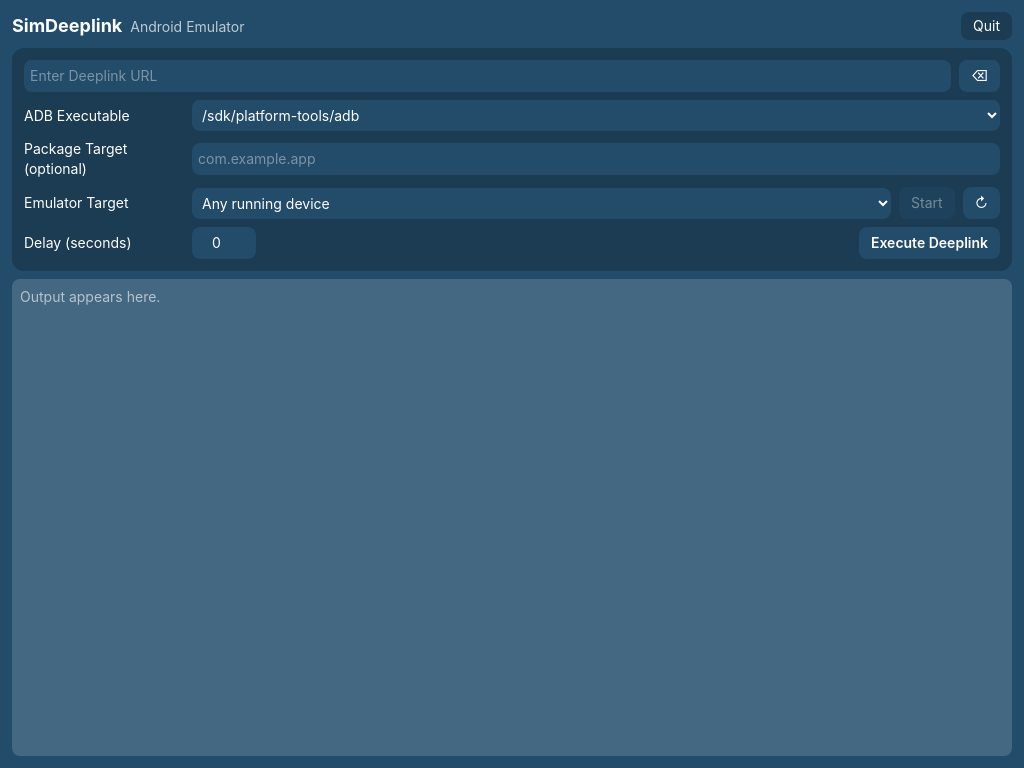
Test case: devices › starts a stopped emulator and reads the list again
Expected: the field labelled "Deeplink URL" is shown, [24, 60, 951, 92]
Expected: the button with aria-label "Start device" is disabled, [899, 187, 955, 219]
Select "Tablet" in the dropdown named "Device" at (542, 203), box [192, 188, 891, 218]
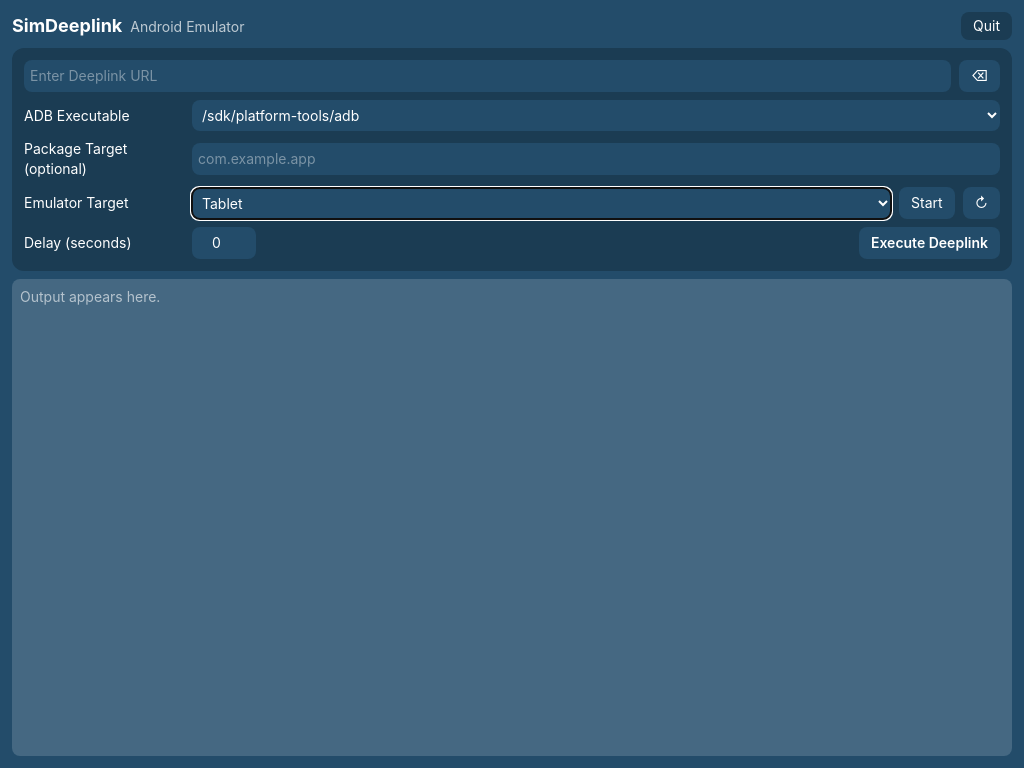
Click the button with aria-label "Start device" at (927, 203), box [899, 187, 955, 219]
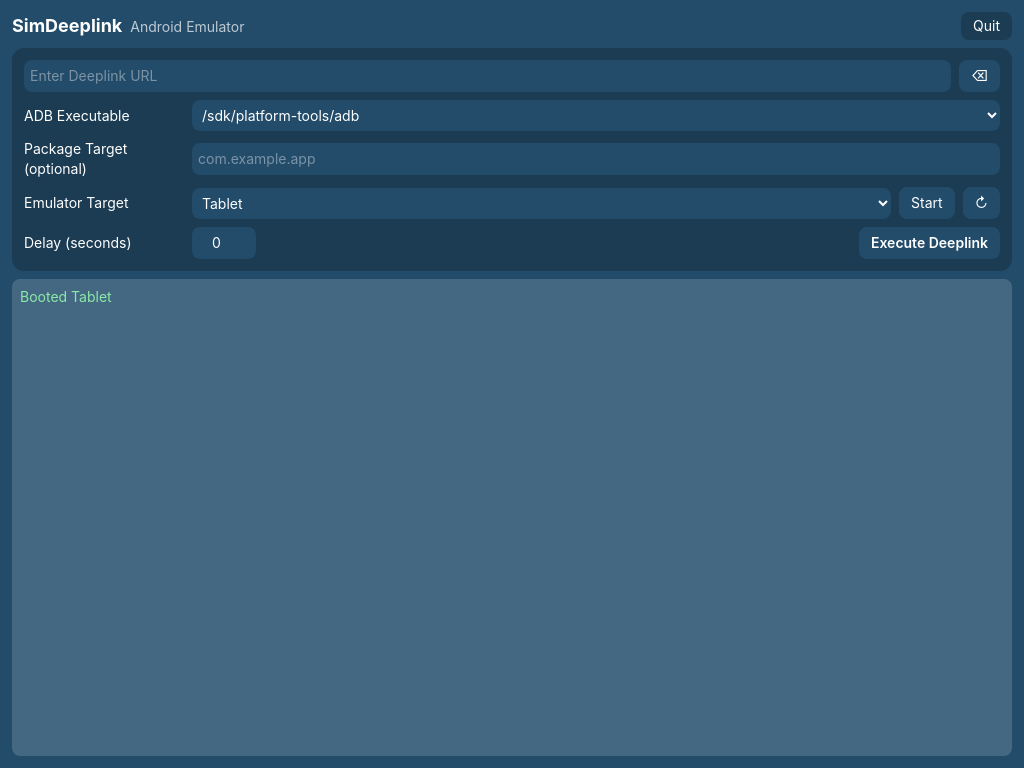
Now the text with test id "output" reads "Booted Tablet", box [20, 288, 112, 305]
